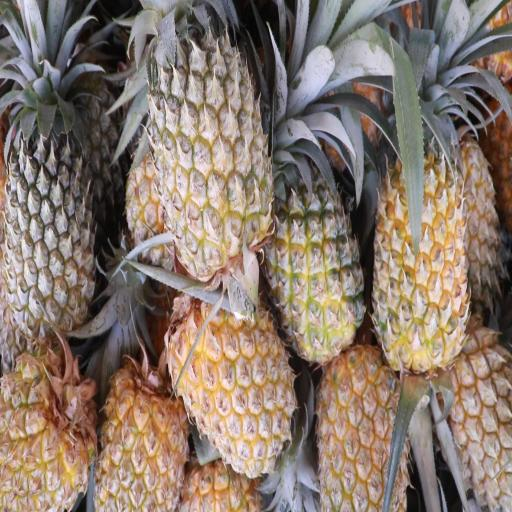------------------------------: (144, 0, 277, 293), (264, 120, 368, 372)
Pineapple - v8 v1: (366, 78, 473, 378), (167, 272, 302, 487), (314, 334, 416, 511), (0, 344, 104, 510), (94, 360, 193, 512), (445, 504, 451, 512)
